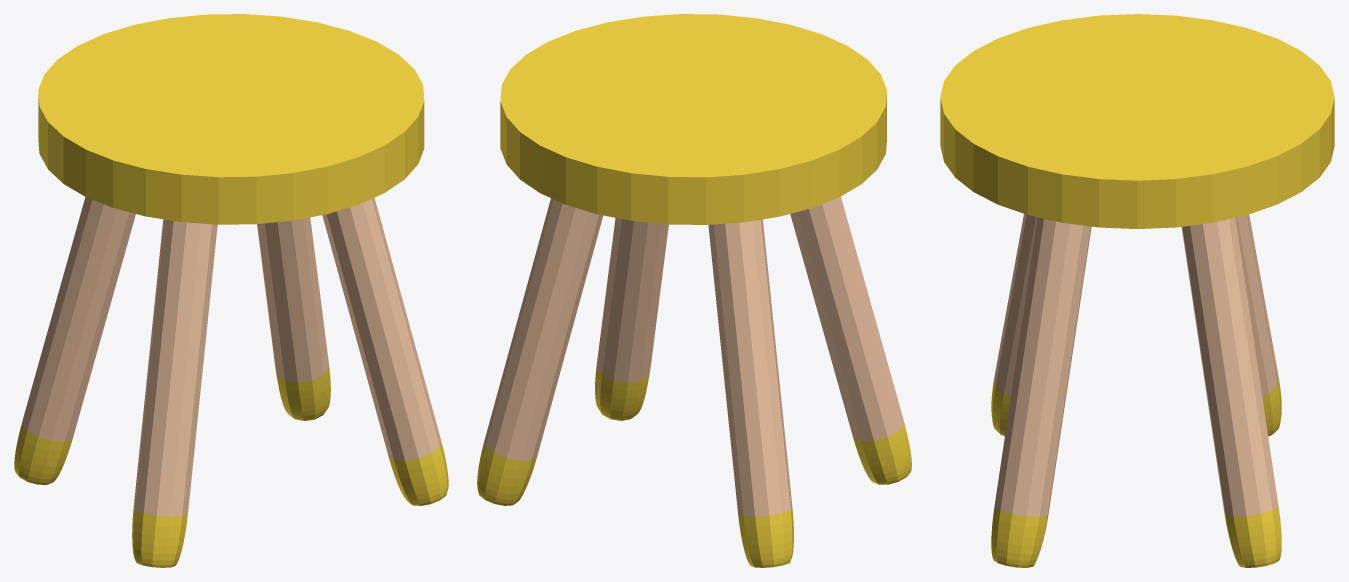
The model's file is side-table-chair.fbx.
3 views of the same model, side by side, from view 1: azimuth 30°, elevation 25°; view 2: azimuth 150°, elevation 25°; view 3: azimuth 270°, elevation 25° (orthographic).
Visible parts, largest first — view 1: Cylinder, bed.001, bed.002, bed.003, bed.004; view 2: Cylinder, bed.003, bed.004, bed.001, bed.002; view 3: Cylinder, bed.002, bed.004, bed.001, bed.003.
Part boxes in pixels (box(x1,y1,x2,y2)): Cylinder: box(38, 14, 424, 224); bed.001: box(132, 219, 217, 567); bed.002: box(322, 197, 448, 505); bed.003: box(14, 197, 135, 484); bed.004: box(257, 217, 330, 420); Cylinder: box(500, 14, 886, 224); bed.003: box(708, 219, 793, 567); bed.004: box(477, 198, 603, 505); bed.001: box(790, 196, 911, 484); bed.002: box(595, 218, 668, 420); Cylinder: box(940, 14, 1334, 228); bed.002: box(991, 217, 1091, 567); bed.004: box(1181, 218, 1281, 567); bed.001: box(991, 214, 1037, 436); bed.003: box(1235, 214, 1281, 436).
Bounding box in the file's own units: 105 × 118 × 105.
